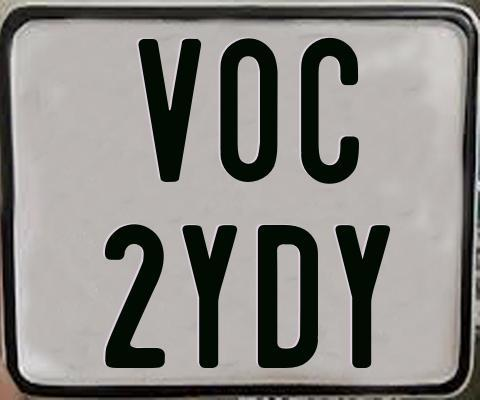0: (218, 37, 278, 186)
2: (104, 221, 166, 367)
C: (299, 36, 358, 182)
D: (258, 224, 321, 370)
V: (137, 38, 205, 187)
Y: (181, 225, 239, 372), (333, 225, 390, 369)
